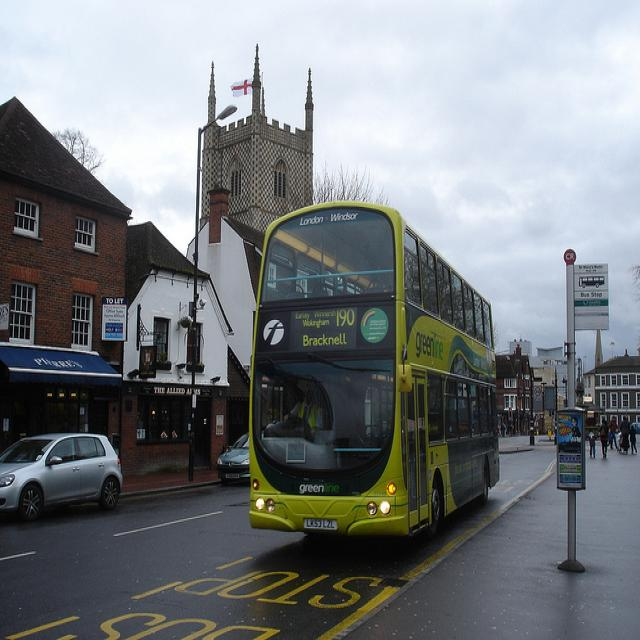Vehicle: (249, 197, 502, 545), (1, 433, 124, 520), (216, 432, 250, 486)
